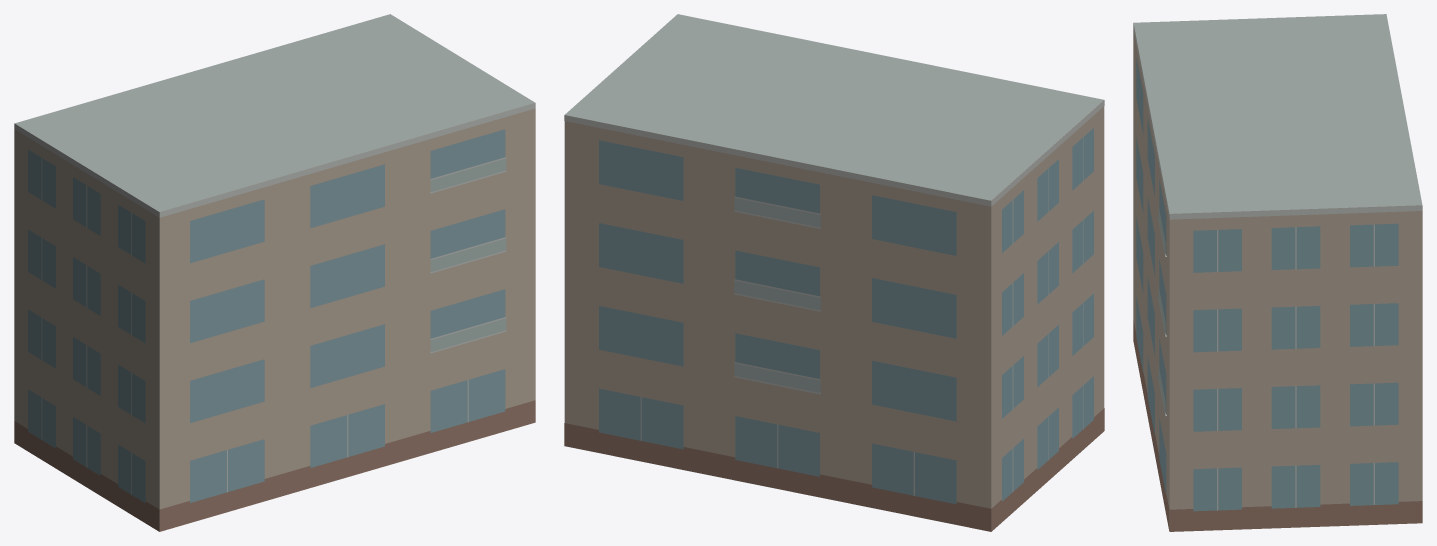
The model's file is survey-upis-32757032.glb.
The picture shows the model from 3 angles, left to right: view 1: azimuth 30°, elevation 25°; view 2: azimuth 150°, elevation 25°; view 3: azimuth 270°, elevation 25°; orthographic projection. The views are drawn at different scales.
Parts seen in each view (by area): view 1: survey-upis-32757032.tmp; view 2: survey-upis-32757032.tmp; view 3: survey-upis-32757032.tmp.
Boxes of the visible parts, box(x1,y1,x2,y2) form: survey-upis-32757032.tmp: box(14, 14, 535, 531); survey-upis-32757032.tmp: box(564, 14, 1104, 531); survey-upis-32757032.tmp: box(1133, 14, 1422, 531).
Bounding box in the file's own units: 18.41 × 13.65 × 11.26.
